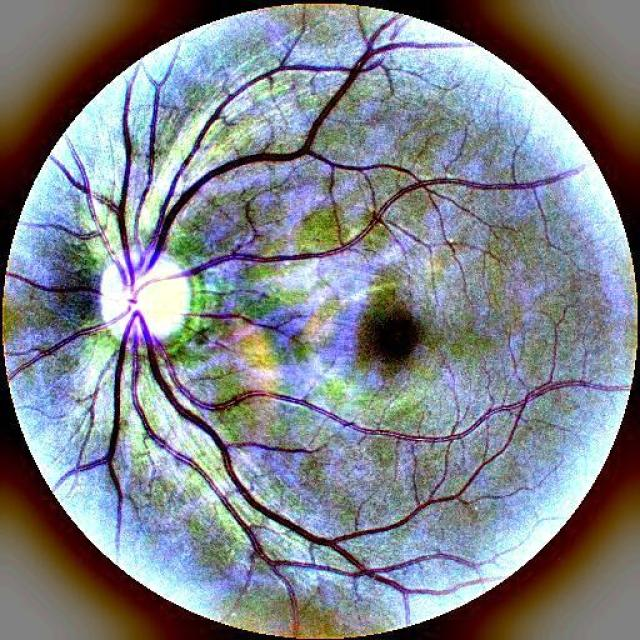Macula: (333, 291, 434, 401)
Nerves: (46, 158, 616, 605), (81, 64, 341, 294)
Optic Disk: (69, 228, 224, 360)
